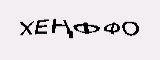Е: (33, 19, 50, 36)
О: (120, 20, 138, 36)
Ф: (73, 22, 102, 35), (102, 20, 120, 34)
Х: (19, 19, 33, 36)
Ң: (50, 18, 73, 38)
